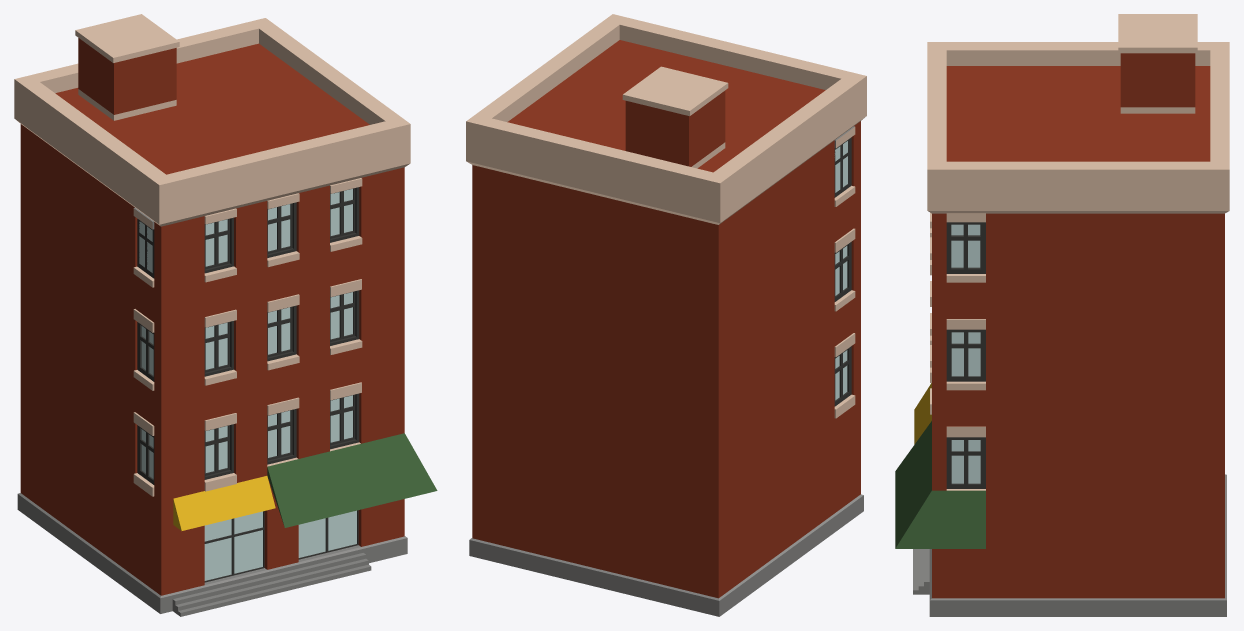
The model's file is House_03.fbx.
The picture shows the model from 3 angles, left to right: view 1: azimuth 30°, elevation 25°; view 2: azimuth 150°, elevation 25°; view 3: azimuth 270°, elevation 25°; orthographic projection. The views are drawn at different scales.
Visible parts, largest first — view 1: Cube; view 2: Cube; view 3: Cube.
Part boxes in pixels (x1,y1,x2,y2): Cube: [14, 14, 437, 616]; Cube: [466, 14, 866, 616]; Cube: [895, 14, 1229, 616].
Size of the model in its own units: 17.25 by 18.26 by 30.09.
